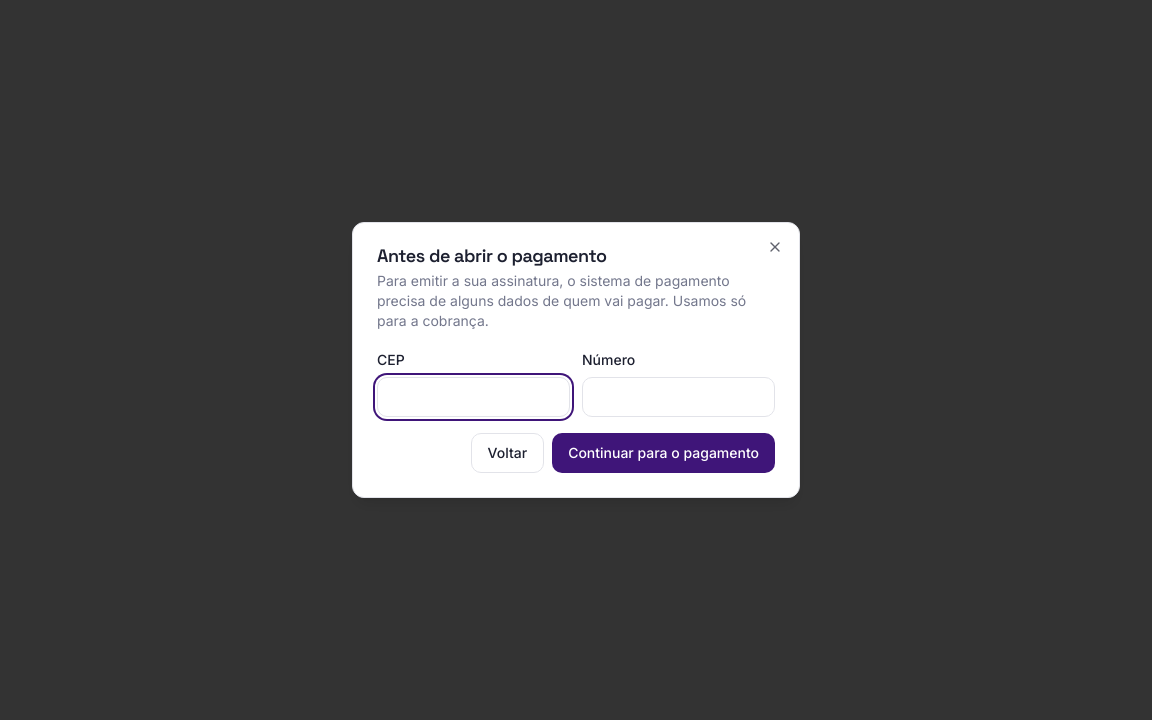
Scenario: billing dialog › CEP lookup fills preview and sends only the collected address
Later steps or results of the test are not shown.
Type "01310100" into the field labelled "CEP".
click(474, 397); type("01310100")  # box [377,377,570,417]
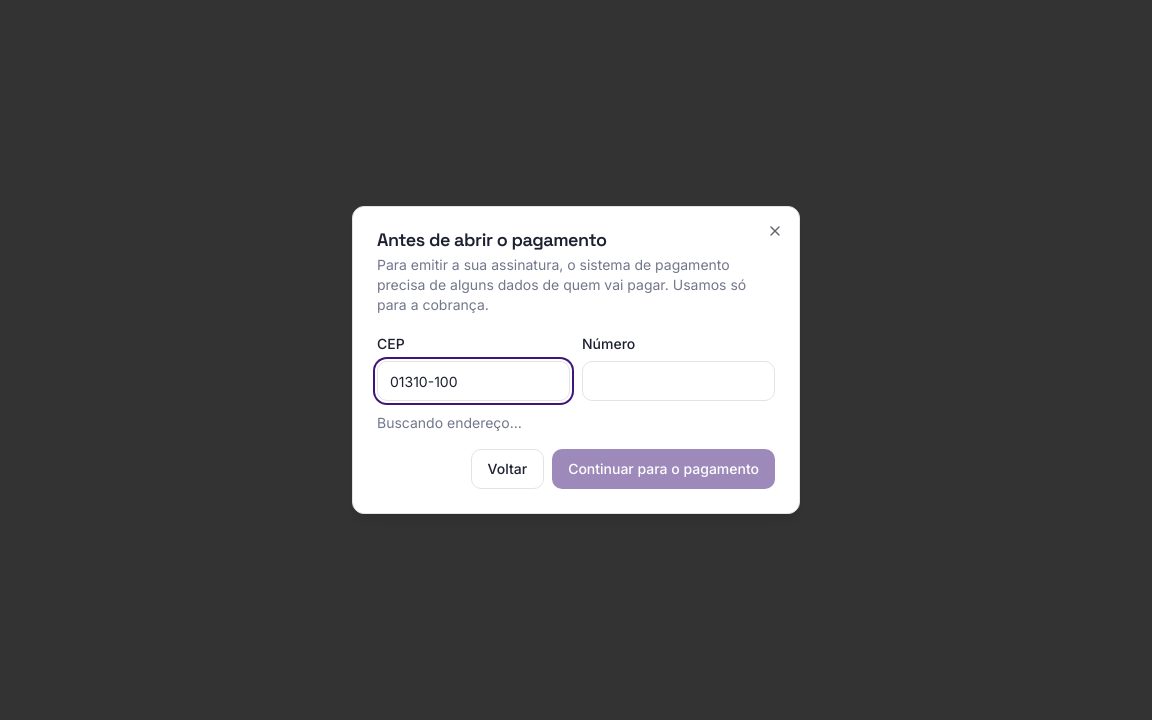
Type " 20 " into the field labelled "Número".
click(678, 381); type(" 20 ")  # box [582,361,775,401]
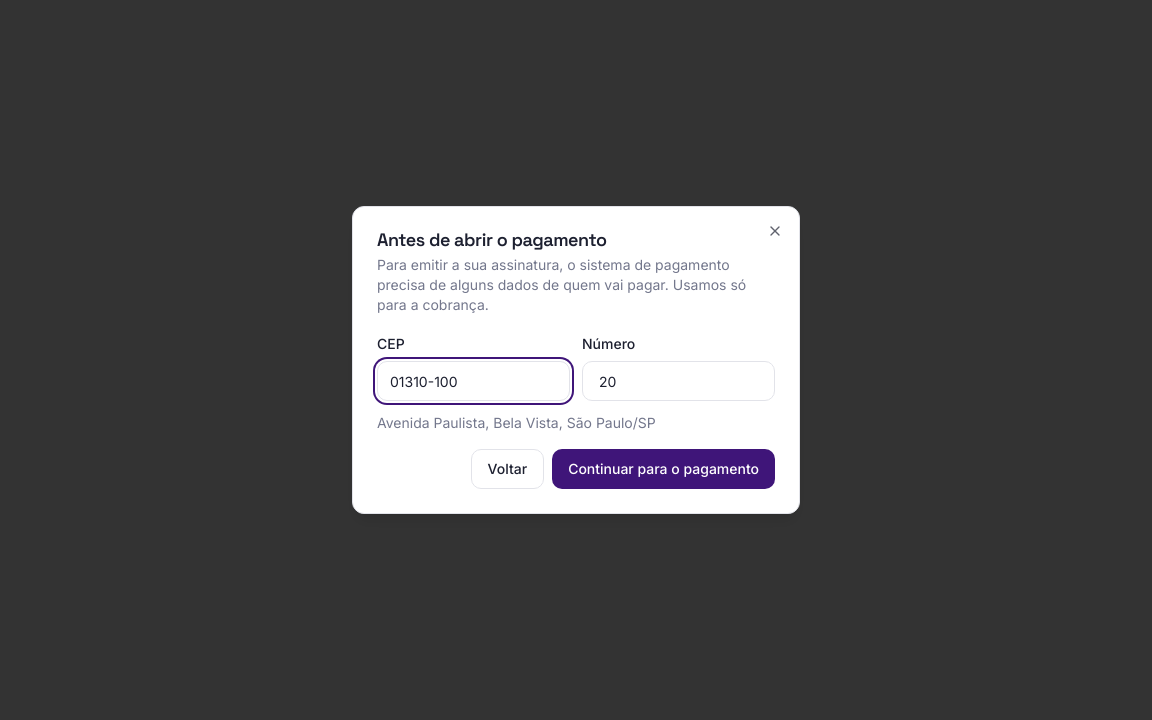
Expected: the text "Avenida Paulista, Bela Vista, São Paulo/SP" is shown, [377,414,656,431]
